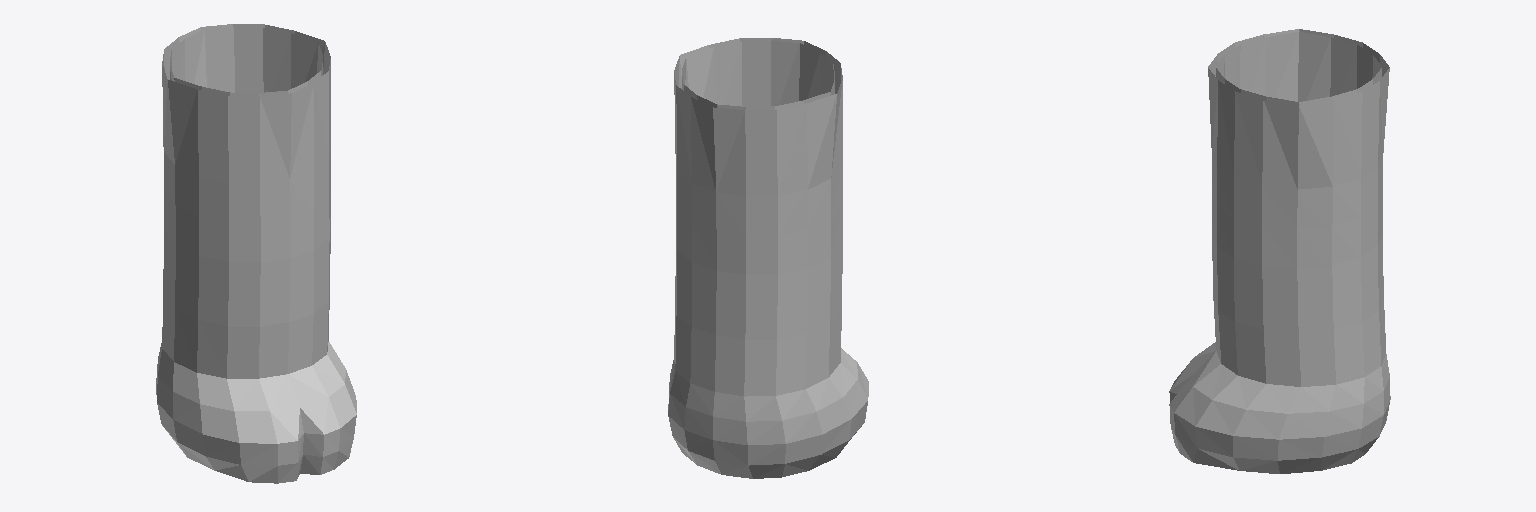
Rendered from pierna der cordero.obj.
The picture shows the model from 3 angles: view 1: azimuth 30°, elevation 25°; view 2: azimuth 150°, elevation 25°; view 3: azimuth 270°, elevation 25°; orthographic projection.
Visible parts, largest first — view 1: Object006; view 2: Object006; view 3: Object006.
Boxes of the visible parts, x1=… form: Object006: x1=156, y1=24, x2=356, y2=483; Object006: x1=668, y1=38, x2=868, y2=478; Object006: x1=1169, y1=29, x2=1390, y2=473.
Size of the model in its own units: 3.95 by 8.57 by 4.54.